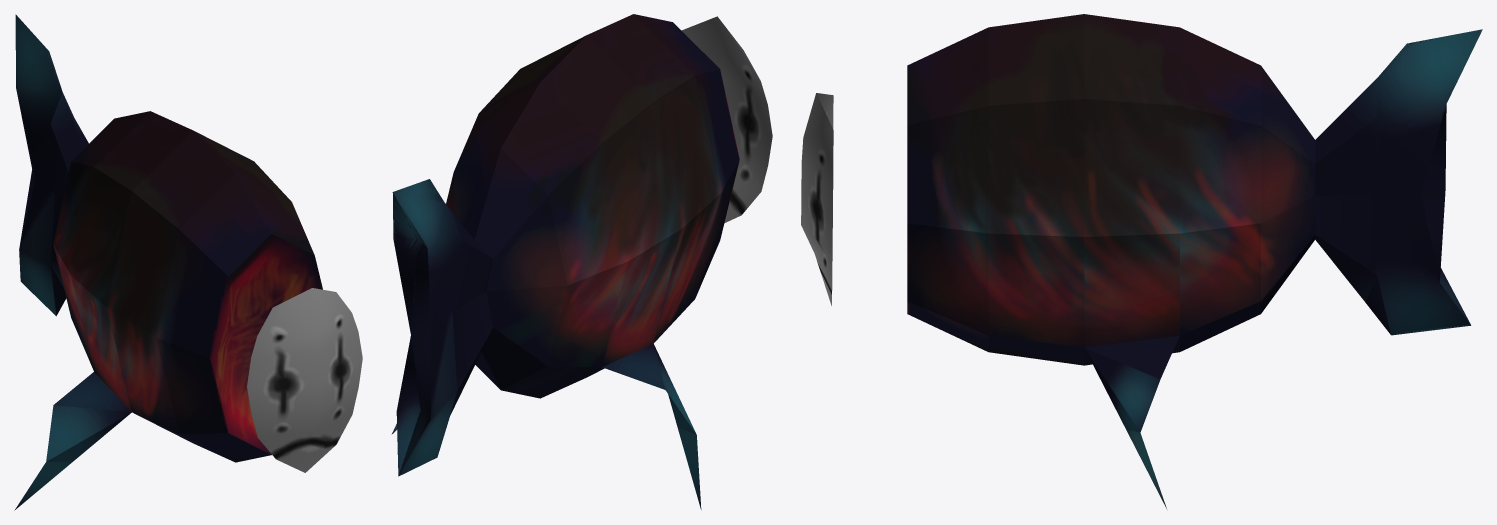
Rendered from 04 RIG pato.obj.
3 renders of one model, left to right at view 1: azimuth 30°, elevation 25°; view 2: azimuth 150°, elevation 25°; view 3: azimuth 270°, elevation 25°, orthographic. The views are drawn at different scales.
Parts seen in each view (by area): view 1: pSphere1, pPlane1; view 2: pSphere1, pPlane1; view 3: pSphere1, pPlane1.
Boxes of the visible parts, x1,y1,x2,y2 form: pSphere1: (14, 14, 322, 510); pPlane1: (247, 288, 362, 472); pSphere1: (391, 14, 739, 509); pPlane1: (681, 16, 772, 223); pSphere1: (907, 14, 1482, 508); pPlane1: (801, 93, 833, 305).
Bounding box in the file's own units: 84.1 × 106 × 156.
Materials: 2 (2 with a texture image).
